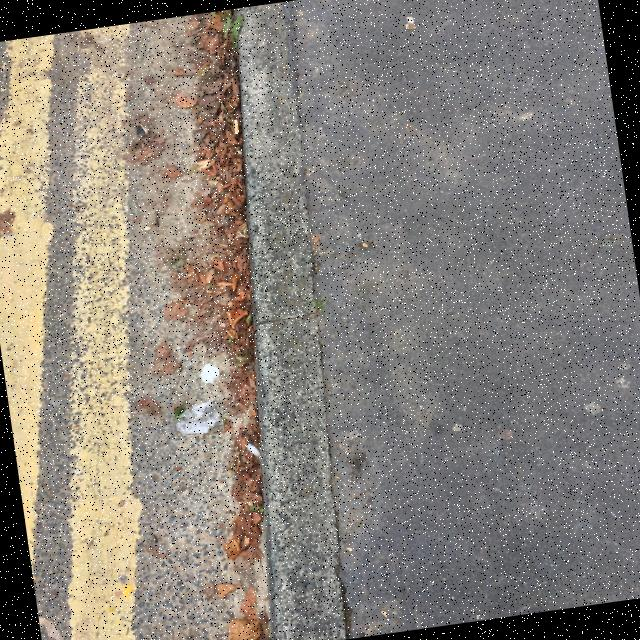Cigarette: (234, 120, 239, 135)
Plastic film: (177, 402, 222, 435)
Unlabeled litter: (201, 365, 220, 383)
